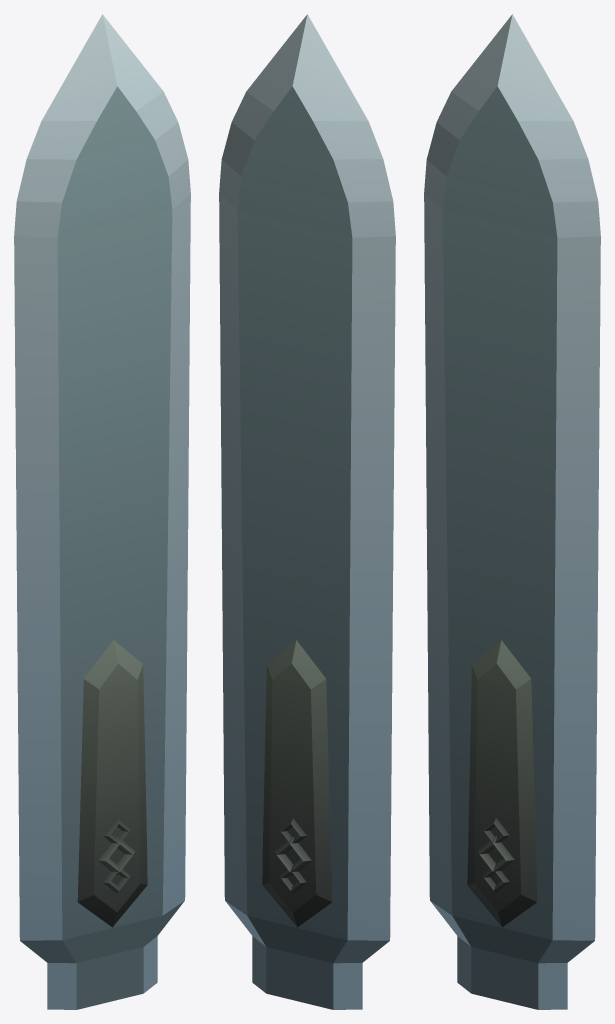
File: blade_013.fbx
The picture shows the model from 3 angles, left to right: view 1: azimuth 30°, elevation 25°; view 2: azimuth 150°, elevation 25°; view 3: azimuth 330°, elevation 25°; orthographic projection.
Parts seen in each view (by area): view 1: blade.013; view 2: blade.013; view 3: blade.013.
Boxes of the visible parts, box(x1,y1,x2,y2) form: blade.013: box(14, 14, 190, 1009); blade.013: box(219, 14, 395, 1009); blade.013: box(424, 14, 600, 1009).
Bounding box in the file's own units: 27.03 × 143 × 9.81.
